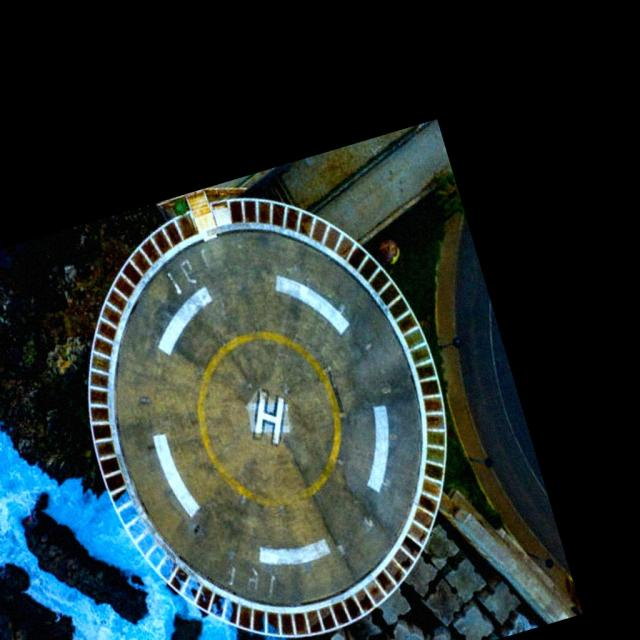helipad: (192, 326, 346, 512)
